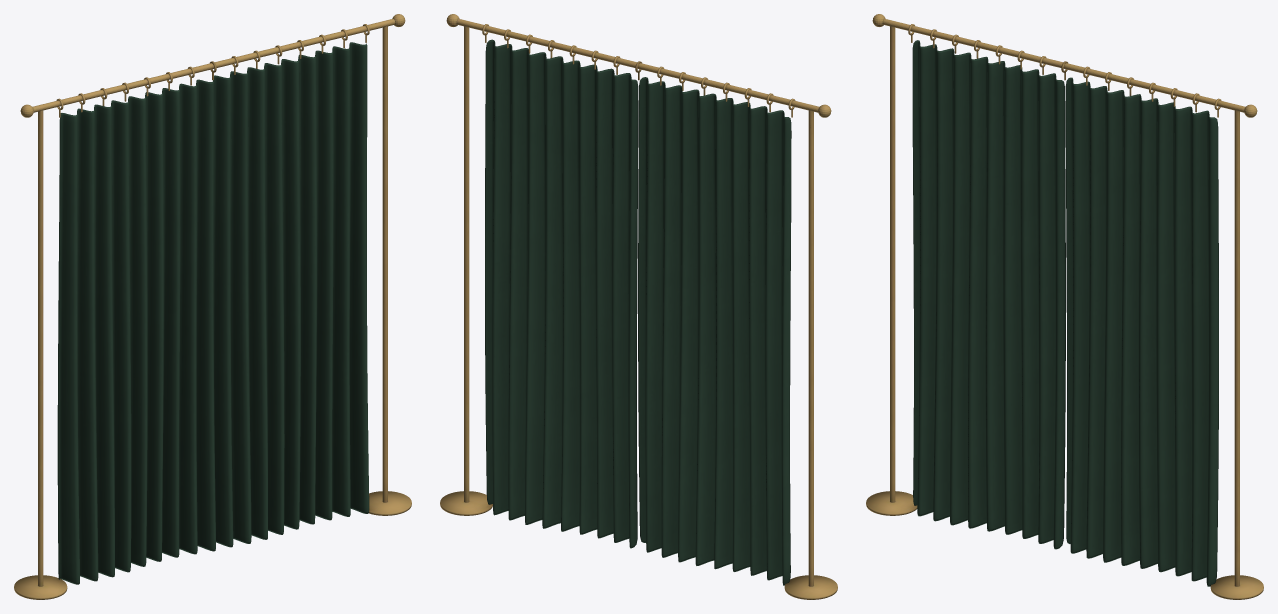
Rendered from velvet-green-closed.glb.
3 renders of one model, left to right at view 1: azimuth 30°, elevation 25°; view 2: azimuth 150°, elevation 25°; view 3: azimuth 330°, elevation 25°, orthographic.
Parts seen in each view (by area): view 1: fabric_primary_curtain, brass; view 2: fabric_primary_curtain, brass; view 3: fabric_primary_curtain, brass.
Boxes of the visible parts, <box> form: fabric_primary_curtain: <box>57,42,369,584</box>; brass: <box>14,14,411,599</box>; fabric_primary_curtain: <box>485,39,791,585</box>; brass: <box>440,14,837,599</box>; fabric_primary_curtain: <box>912,40,1218,586</box>; brass: <box>866,14,1263,599</box>.
Size of the model in its own units: 2.04 by 2.43 by 0.24.
Materials: 2 (2 with a texture image).
